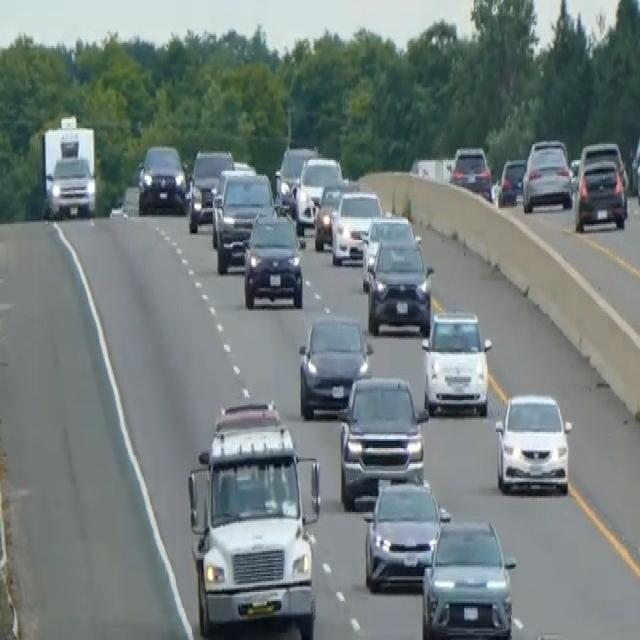car: (338, 374, 427, 508), (420, 518, 516, 638), (362, 475, 451, 592), (297, 311, 373, 420), (494, 390, 572, 494), (421, 308, 492, 416), (210, 165, 275, 272), (366, 235, 434, 334), (242, 210, 304, 309), (360, 212, 415, 290), (573, 155, 628, 231), (186, 146, 234, 233), (330, 187, 382, 265), (293, 153, 343, 233), (521, 137, 572, 213), (137, 141, 187, 215), (313, 176, 358, 251), (273, 142, 316, 212), (576, 139, 627, 190), (449, 142, 493, 201), (498, 155, 526, 206), (632, 132, 639, 206)
lorry: (185, 393, 323, 638)
truck: (39, 114, 99, 222)
